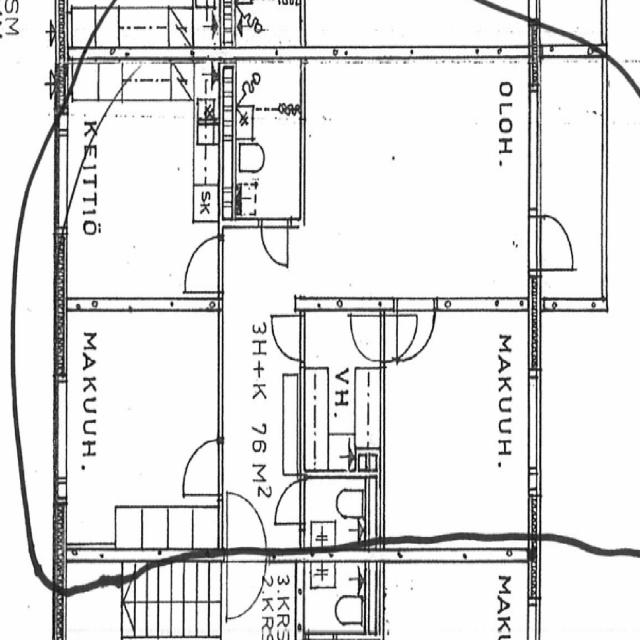door: (176, 431, 225, 506), (530, 209, 579, 278), (221, 551, 266, 626), (221, 486, 271, 548), (180, 233, 224, 299), (389, 307, 436, 365), (346, 307, 385, 367), (269, 310, 306, 365), (256, 216, 292, 272), (270, 477, 308, 529), (304, 23, 339, 66)
window: (70, 290, 200, 321), (521, 358, 547, 495), (525, 82, 548, 220), (436, 290, 526, 319), (210, 323, 229, 442)
zone: (299, 64, 531, 298), (56, 306, 224, 557), (59, 55, 220, 307), (381, 304, 531, 547), (299, 308, 386, 476), (228, 56, 304, 225), (299, 556, 369, 638), (300, 473, 370, 548)
